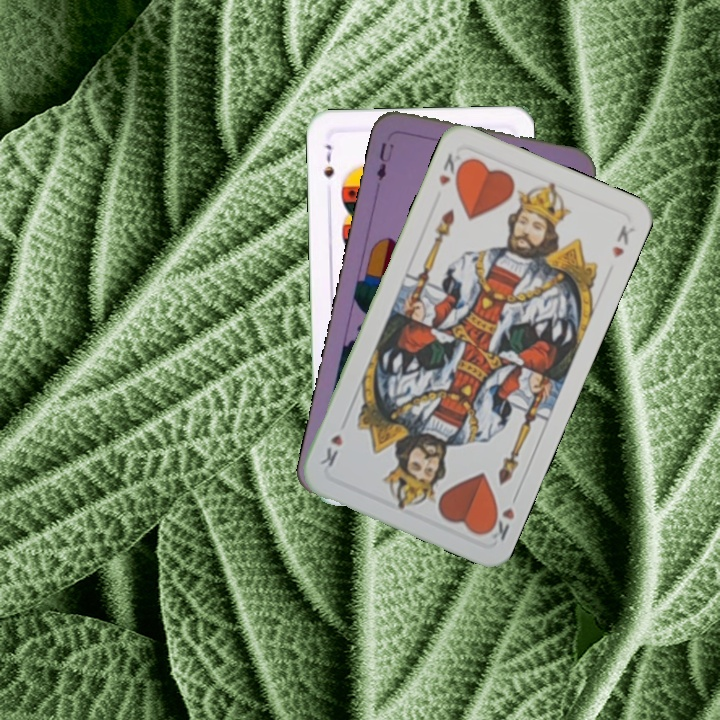EU: (372, 138, 397, 184)
HK: (481, 488, 522, 543), (434, 149, 468, 188)
S7: (320, 140, 337, 180)
